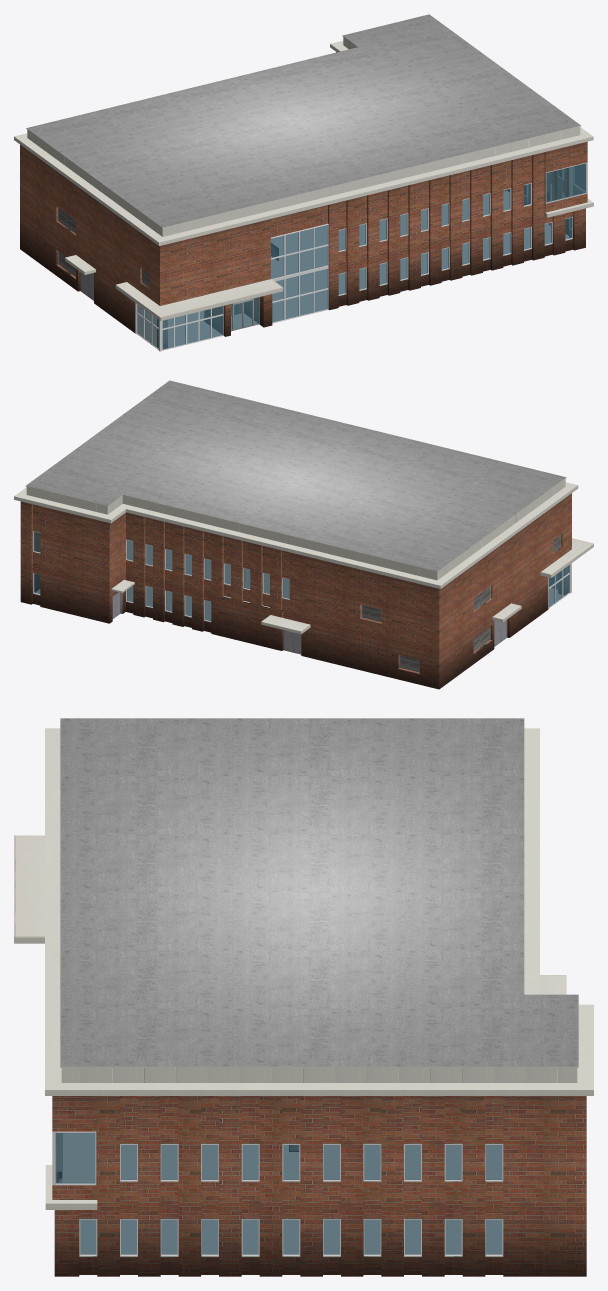
The model's file is 03-GC-OUT-animal-lab.glb.
3 renders of one model, top to bottom at view 1: azimuth 30°, elevation 25°; view 2: azimuth 150°, elevation 25°; view 3: azimuth 270°, elevation 25°, orthographic. The views are drawn at different scales.
Parts seen in each view (by area): view 1: Line114, Box251, animal-lab-1F, Plane011, Plane007, Line105, Box708; view 2: Line114, Box251, animal-lab-1F, Plane007, Plane011, Box731, Line105, Box526, Box715; view 3: Line114, Box251, animal-lab-1F, Plane007, Plane011, Line105.
Part boxes in pixels (bbox=[...]): Line114: bbox=[14, 14, 593, 245]; Box251: bbox=[20, 52, 587, 305]; animal-lab-1F: bbox=[20, 181, 585, 348]; Plane011: bbox=[135, 185, 572, 351]; Plane007: bbox=[271, 162, 587, 280]; Line105: bbox=[115, 198, 593, 320]; Box708: bbox=[231, 297, 259, 331]; Line114: bbox=[14, 380, 578, 588]; Box251: bbox=[20, 493, 571, 649]; animal-lab-1F: bbox=[20, 550, 568, 689]; Plane007: bbox=[33, 531, 289, 599]; Plane011: bbox=[33, 563, 571, 622]; Box731: bbox=[112, 592, 507, 654]; Line105: bbox=[540, 538, 593, 577]; Box526: bbox=[261, 615, 310, 634]; Box715: bbox=[399, 627, 490, 672]; Line114: bbox=[45, 718, 593, 1095]; Box251: bbox=[52, 1096, 586, 1205]; animal-lab-1F: bbox=[54, 1172, 586, 1276]; Plane007: bbox=[52, 1131, 503, 1185]; Plane011: bbox=[79, 1219, 503, 1256]; Line105: bbox=[14, 835, 97, 1209].
Bounding box in the file's own units: 38.66 × 10.16 × 25.73.
Materials: 13 (10 with a texture image).
